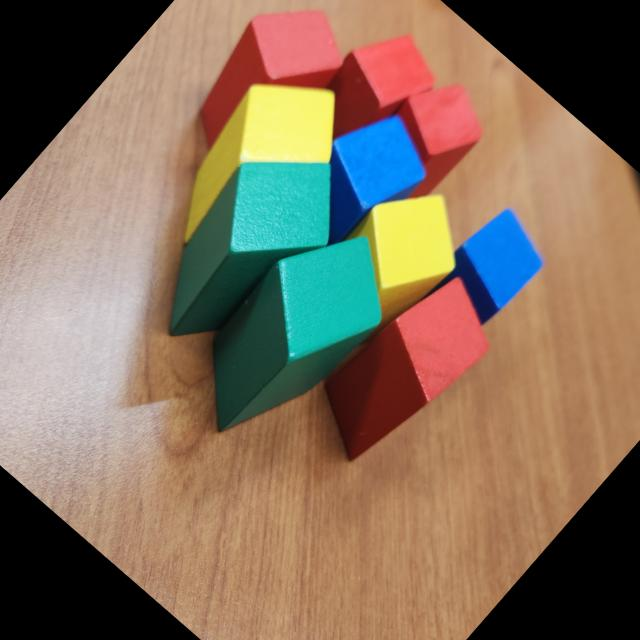blue: (279, 92, 449, 268), (427, 198, 558, 332)
green: (166, 202, 422, 470), (121, 116, 372, 378)
red: (293, 255, 516, 488), (168, 0, 366, 182), (341, 60, 501, 226), (298, 11, 451, 168)
yellow: (142, 46, 368, 282), (310, 165, 486, 346)
